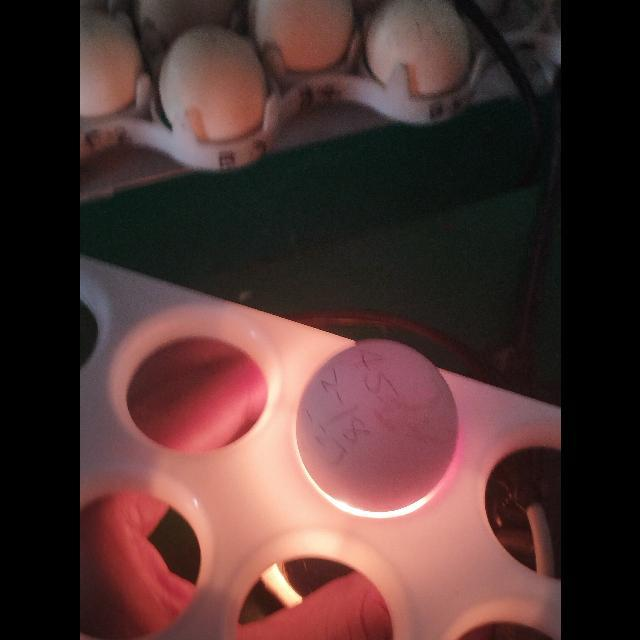Fertile: (293, 338, 462, 514)
